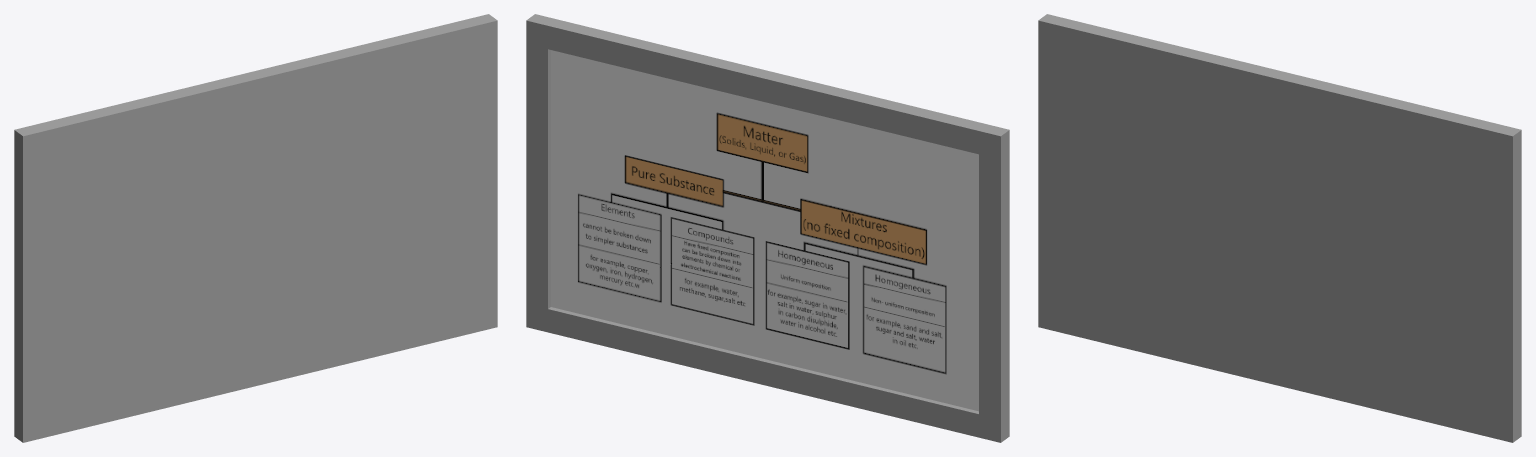
Rendered from chart.fbx.
3 views of the same model, side by side, from view 1: azimuth 30°, elevation 25°; view 2: azimuth 150°, elevation 25°; view 3: azimuth 330°, elevation 25° (orthographic).
Visible parts, largest first — view 1: pCube1; view 2: pCube1; view 3: pCube1.
Part boxes in pixels (x1=…): pCube1: x1=14, y1=14, x2=497, y2=442; pCube1: x1=526, y1=14, x2=1009, y2=442; pCube1: x1=1038, y1=14, x2=1521, y2=442.
Bounding box in the file's own units: 204 × 126 × 6.65.
2 materials, 1 textured.
